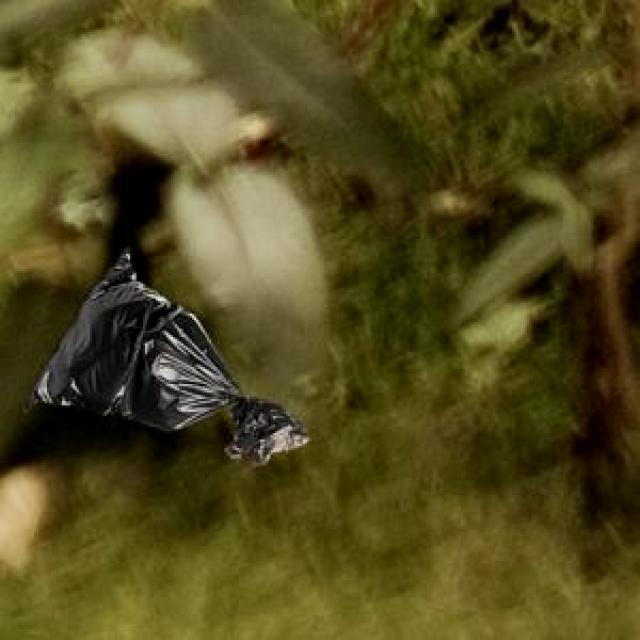Trashbag: (23, 247, 248, 466)
